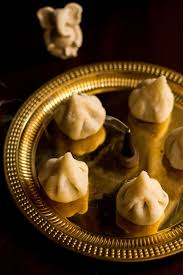modak: (43, 90, 131, 143), (32, 151, 97, 201), (115, 176, 172, 225), (132, 75, 179, 128)
